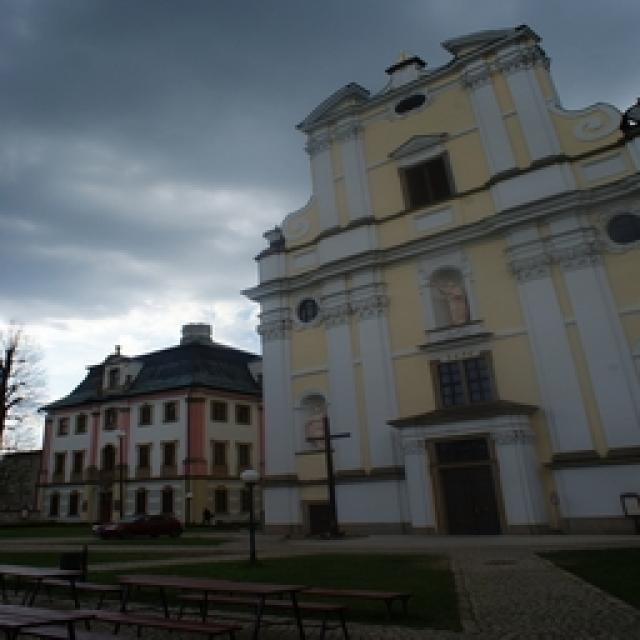Abbey: (241, 21, 639, 539), (616, 488, 638, 536)
